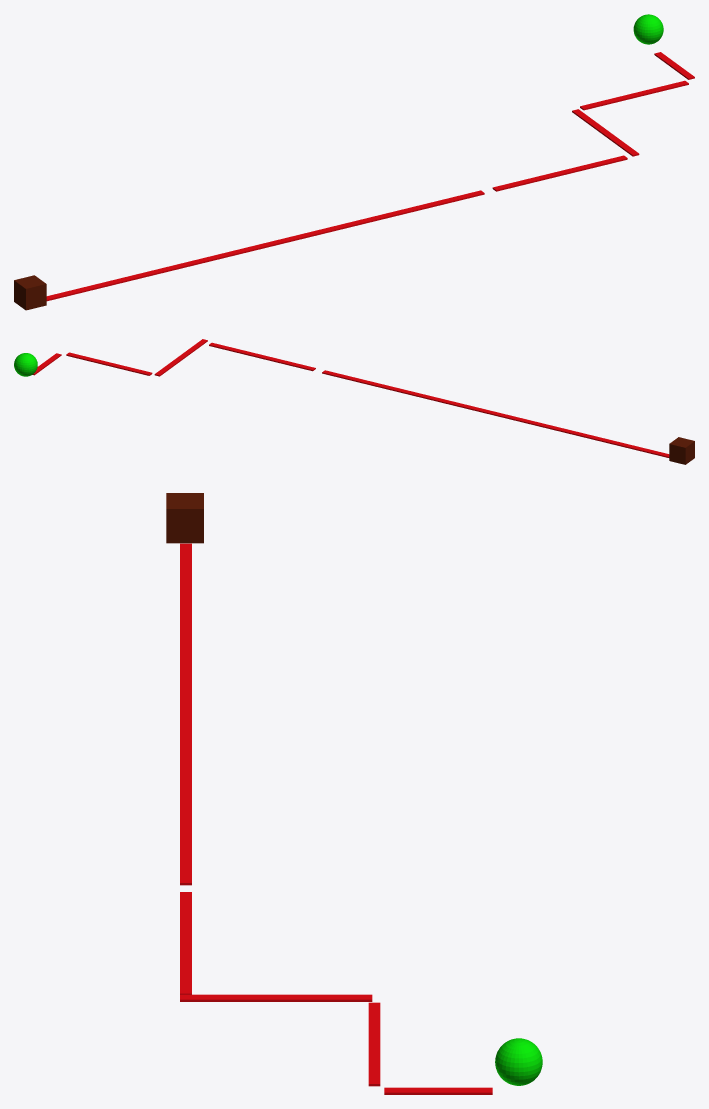
File: BtoDEntrance.glb
3 renders of one model, top to bottom at view 1: azimuth 30°, elevation 25°; view 2: azimuth 150°, elevation 25°; view 3: azimuth 270°, elevation 25°, orthographic. The views are drawn at different scales.
Parts seen in each view (by area): view 1: B.008, DEntrance, B.003, StartPoint, BtoCDE, B.002; view 2: B.008, DEntrance, B.003, StartPoint, BtoCDE, B.002; view 3: B.008, DEntrance, StartPoint, B.002, B.003, BtoCDE.
Part boxes in pixels (x1,y1,x2,y2): B.008: [46, 190, 484, 301]; DEntrance: [14, 275, 46, 310]; B.003: [492, 155, 627, 191]; StartPoint: [633, 14, 663, 44]; BtoCDE: [580, 80, 688, 110]; B.002: [572, 109, 639, 156]; B.008: [322, 370, 669, 457]; DEntrance: [669, 437, 694, 464]; B.003: [209, 342, 315, 371]; StartPoint: [14, 353, 37, 376]; BtoCDE: [66, 352, 152, 375]; B.002: [154, 339, 207, 376]; B.008: [180, 543, 191, 885]; DEntrance: [166, 493, 203, 543]; StartPoint: [495, 1038, 542, 1085]; B.002: [180, 994, 372, 1001]; B.003: [180, 892, 191, 994]; BtoCDE: [368, 1002, 380, 1086].
Bounding box in the file's own units: 1.33 × 0.0583 × 0.3678.
